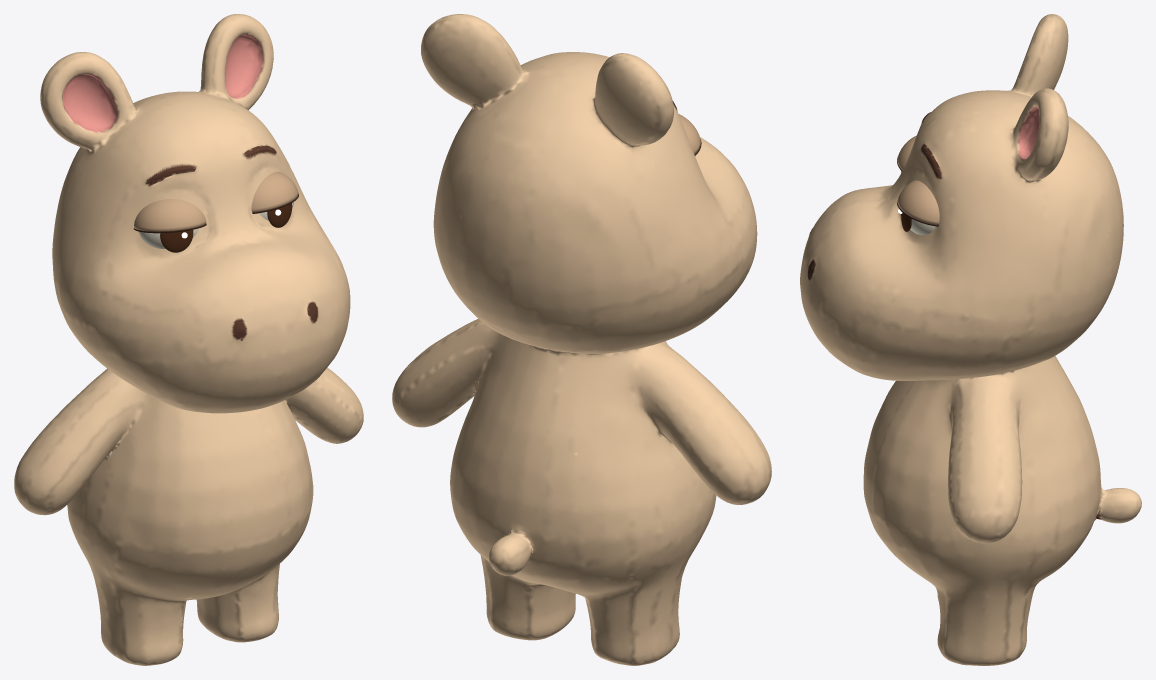
The model's file is hippo_v2.glb.
3 renders of one model, left to right at view 1: azimuth 30°, elevation 25°; view 2: azimuth 150°, elevation 25°; view 3: azimuth 270°, elevation 25°, orthographic. The views are drawn at different scales.
Parts seen in each view (by area): view 1: Hippo, Eye_Lid.L, Eye_Lid.R, Eye_Iris.L; view 2: Hippo; view 3: Hippo, Eye_Lid.R.
Boxes of the visible parts, <box> form: Hippo: <box>14,14,363,665</box>; Eye_Lid.L: <box>134,199,206,231</box>; Eye_Lid.R: <box>251,172,298,212</box>; Eye_Iris.L: <box>160,230,193,252</box>; Hippo: <box>392,14,771,665</box>; Hippo: <box>800,14,1141,665</box>; Eye_Lid.R: <box>897,180,939,225</box>.
Size of the model in its own units: 0.6093 by 0.9993 by 0.5354.
Materials: 6 (1 with a texture image).
